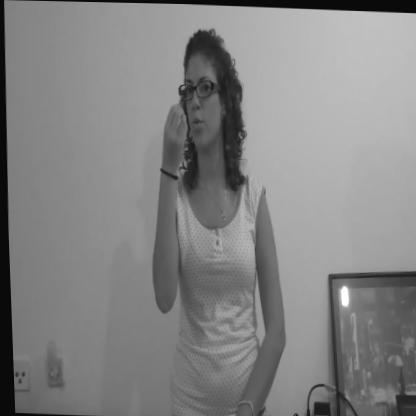Food: (139, 33, 289, 416)
